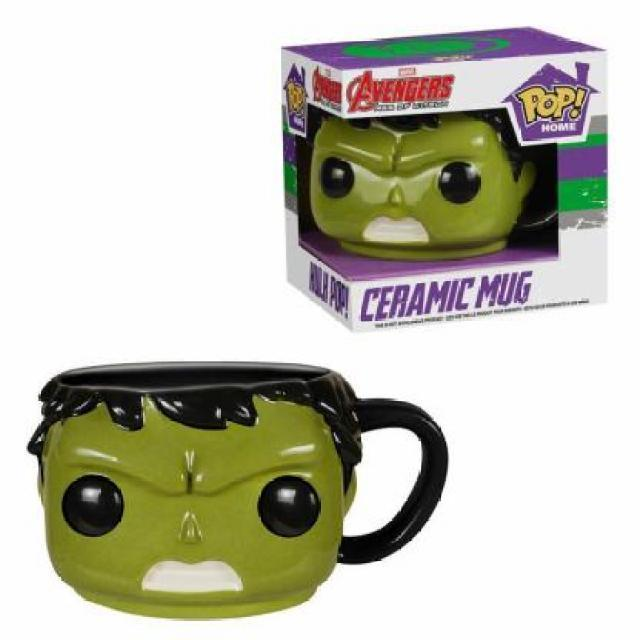taza: (28, 362, 450, 623)
